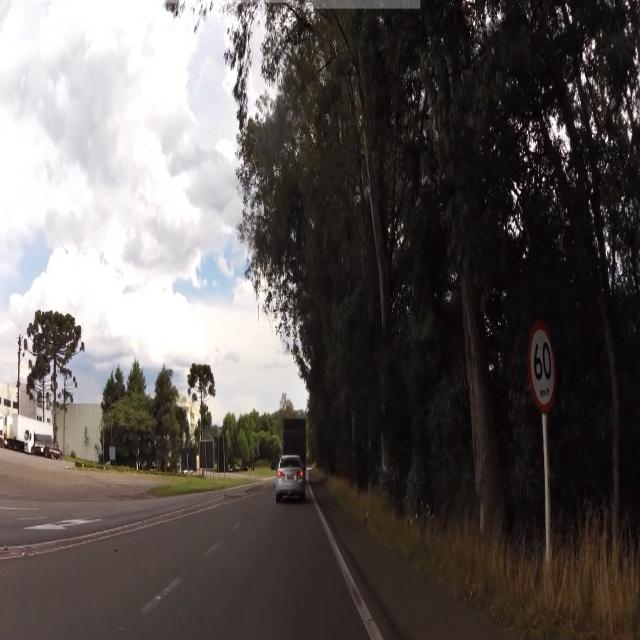R-19: (524, 314, 569, 415)
